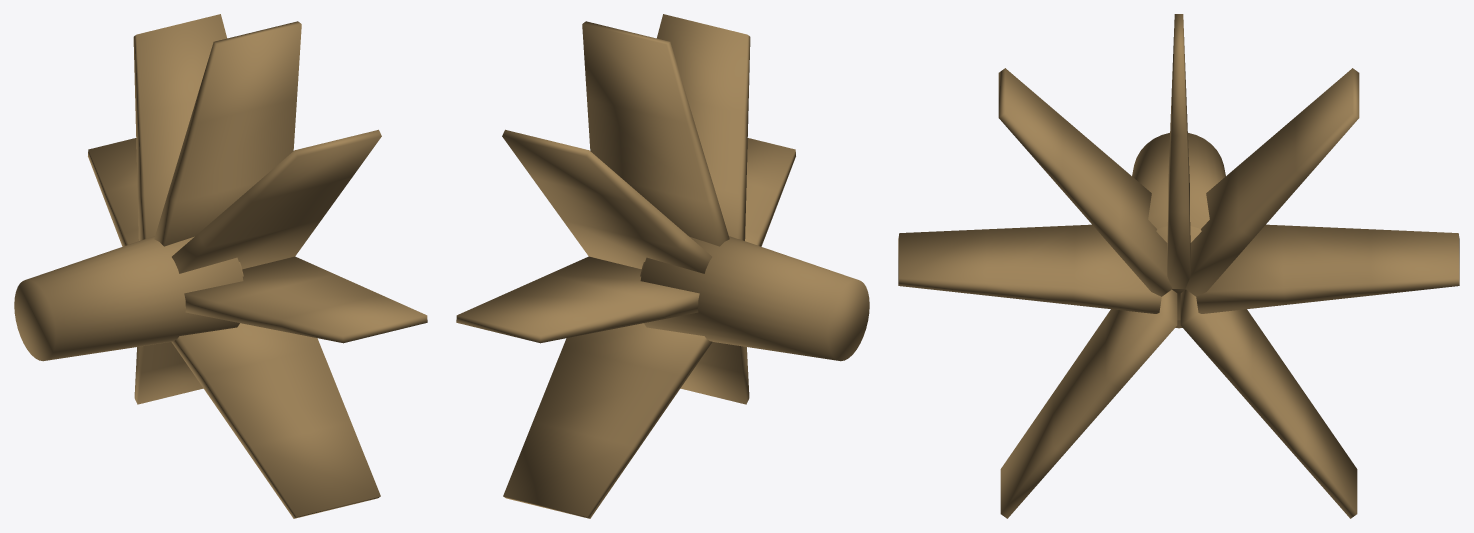
Rendered from UK_SSN_Dreadnought_PROPULSOR_01.fbx.
3 views of the same model, side by side, from view 1: azimuth 30°, elevation 25°; view 2: azimuth 150°, elevation 25°; view 3: azimuth 270°, elevation 25° (orthographic). The views are drawn at different scales.
Visible parts, largest first — view 1: UK_SSN_Dreadnought_PROPULSOR_01; view 2: UK_SSN_Dreadnought_PROPULSOR_01; view 3: UK_SSN_Dreadnought_PROPULSOR_01.
Part boxes in pixels (x1=…): UK_SSN_Dreadnought_PROPULSOR_01: x1=14, y1=14, x2=427, y2=518; UK_SSN_Dreadnought_PROPULSOR_01: x1=456, y1=14, x2=869, y2=518; UK_SSN_Dreadnought_PROPULSOR_01: x1=898, y1=14, x2=1459, y2=518.
Bounding box in the file's own units: 2.2 × 3.68 × 3.32.
